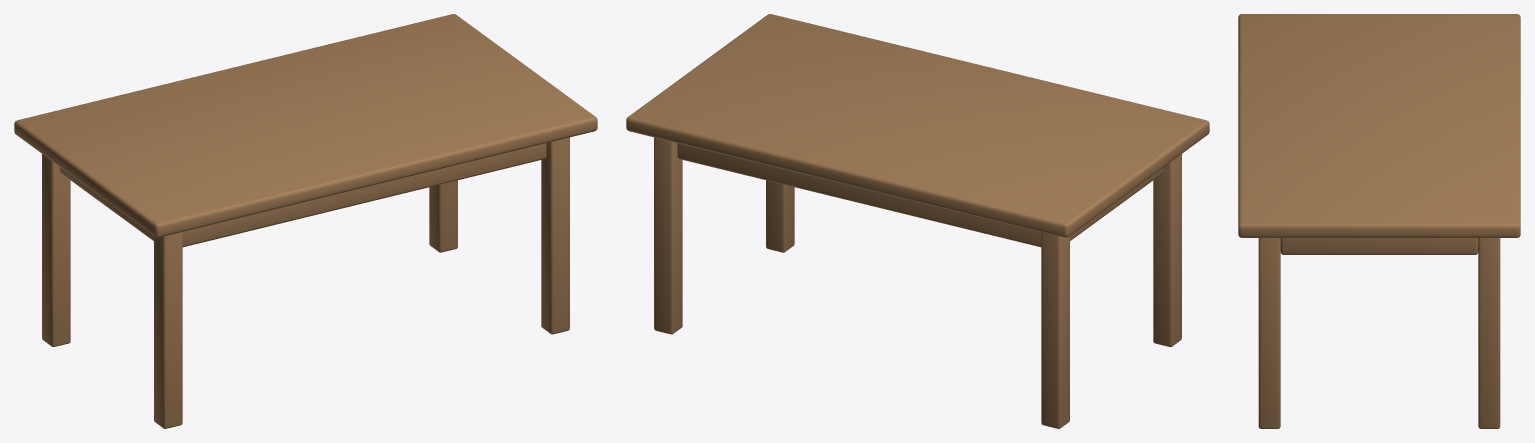
The model's file is table.glb.
3 renders of one model, left to right at view 1: azimuth 30°, elevation 25°; view 2: azimuth 150°, elevation 25°; view 3: azimuth 270°, elevation 25°, orthographic.
Parts seen in each view (by area): view 1: Table_Top, Table, Table_Apron_Back, Table_Apron_Left; view 2: Table_Top, Table, Table_Apron_Front, Table_Apron_Left; view 3: Table_Top, Table, Table_Apron_Right.
Boxes of the visible parts, x1=… form: Table_Top: x1=14, y1=14, x2=597, y2=237; Table: x1=42, y1=137, x2=569, y2=428; Table_Apron_Back: x1=182, y1=143, x2=546, y2=247; Table_Apron_Left: x1=59, y1=167, x2=153, y2=240; Table_Top: x1=626, y1=14, x2=1209, y2=237; Table: x1=654, y1=137, x2=1181, y2=428; Table_Apron_Front: x1=677, y1=143, x2=1041, y2=247; Table_Apron_Left: x1=1070, y1=167, x2=1164, y2=240; Table_Top: x1=1238, y1=14, x2=1520, y2=237; Table: x1=1258, y1=238, x2=1500, y2=428; Table_Apron_Right: x1=1280, y1=238, x2=1478, y2=254.
Size of the model in its own units: 1.6 by 0.75 by 0.9.
